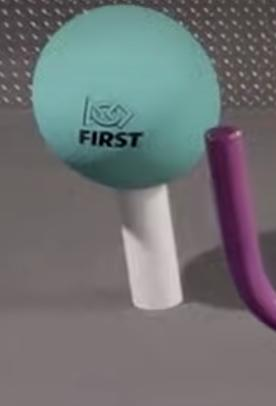algae: (31, 4, 221, 187)
coral: (120, 188, 181, 309)
